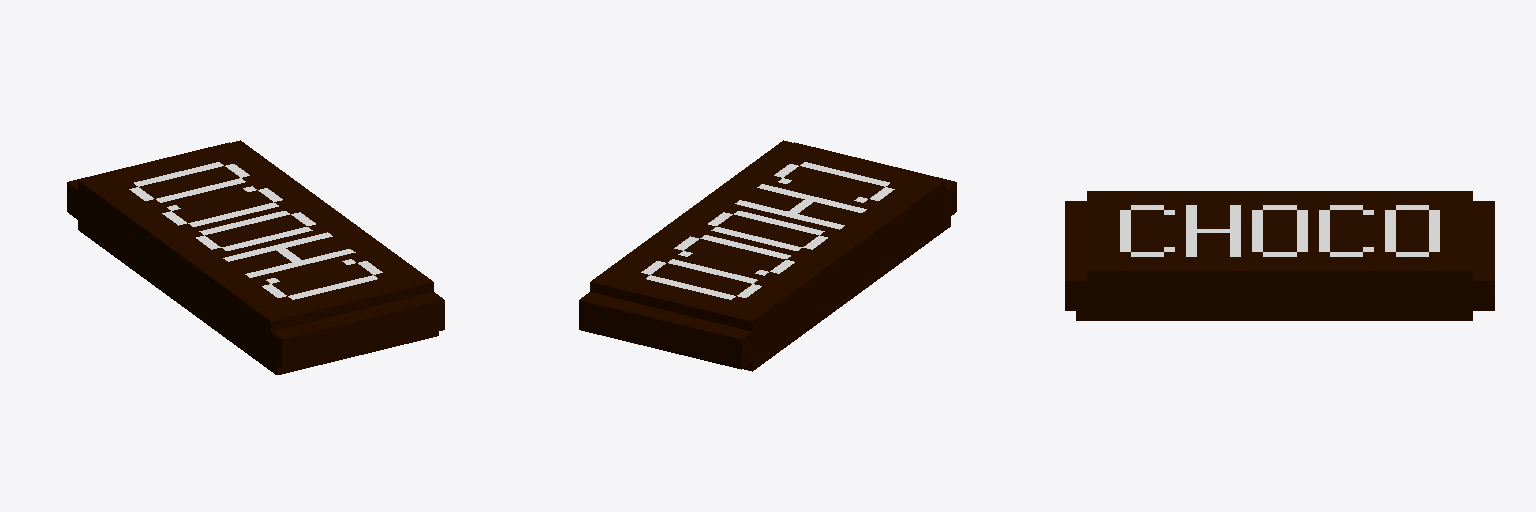
3 views of the same model, side by side, from view 1: azimuth 30°, elevation 25°; view 2: azimuth 150°, elevation 25°; view 3: azimuth 270°, elevation 25° (orthographic).
Visible parts, largest first — view 1: object 1; view 2: object 1; view 3: object 1.
Boxes of the visible parts, box(x1,y1,x2,y2) form: object 1: box(67, 140, 444, 374); object 1: box(579, 140, 956, 371); object 1: box(1065, 191, 1494, 320).
Bounding box in the file's own units: 1.7 × 0.5 × 3.9.
1 materials, 1 textured.